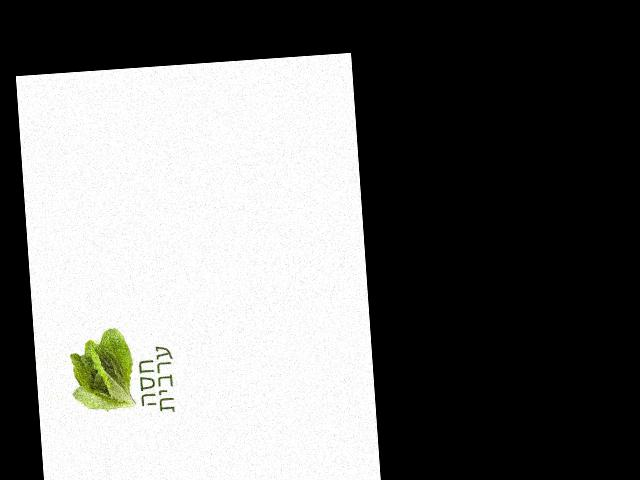lettuce: (69, 325, 161, 442)
